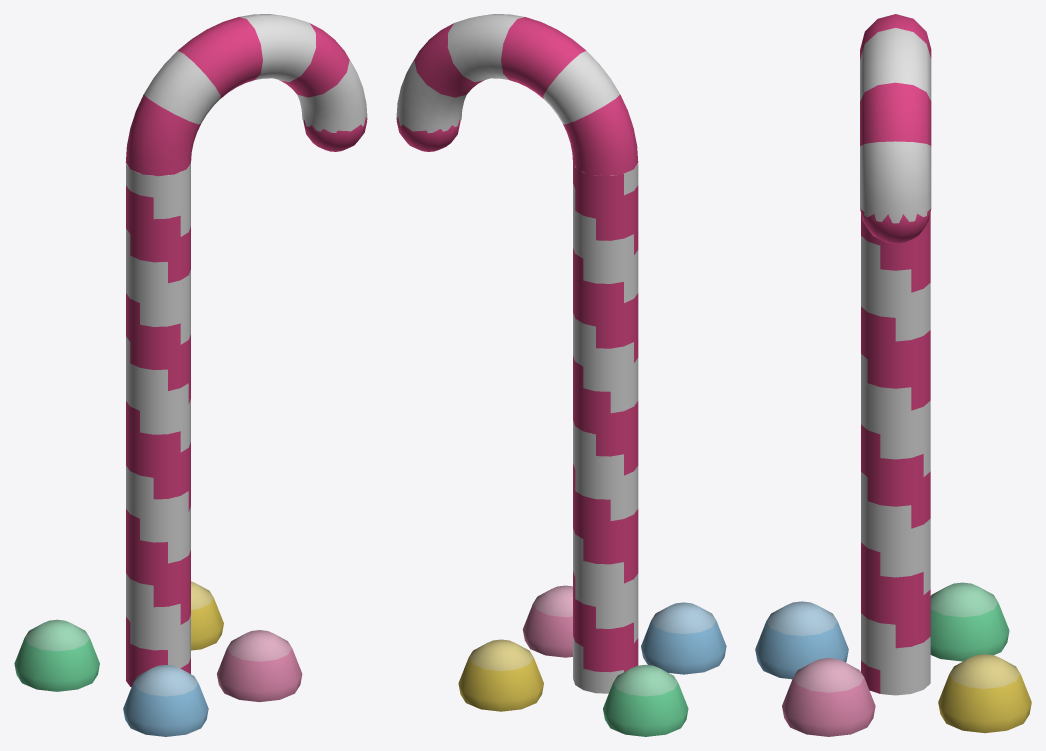
File: block-deco3.glb
3 views of the same model, side by side, from view 1: azimuth 30°, elevation 25°; view 2: azimuth 150°, elevation 25°; view 3: azimuth 270°, elevation 25° (orthographic). The views are drawn at different scales.
Visible parts, largest first — view 1: block-deco3; view 2: block-deco3; view 3: block-deco3.
Boxes of the visible parts, x1=… form: block-deco3: x1=14, y1=14, x2=367, y2=736; block-deco3: x1=396, y1=14, x2=726, y2=736; block-deco3: x1=755, y1=14, x2=1031, y2=736.
Bounding box in the file's own units: 1.77 × 3.46 × 1.24.
